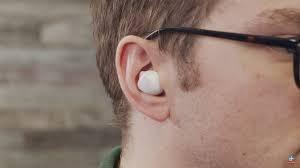earphone: (136, 68, 165, 100)
